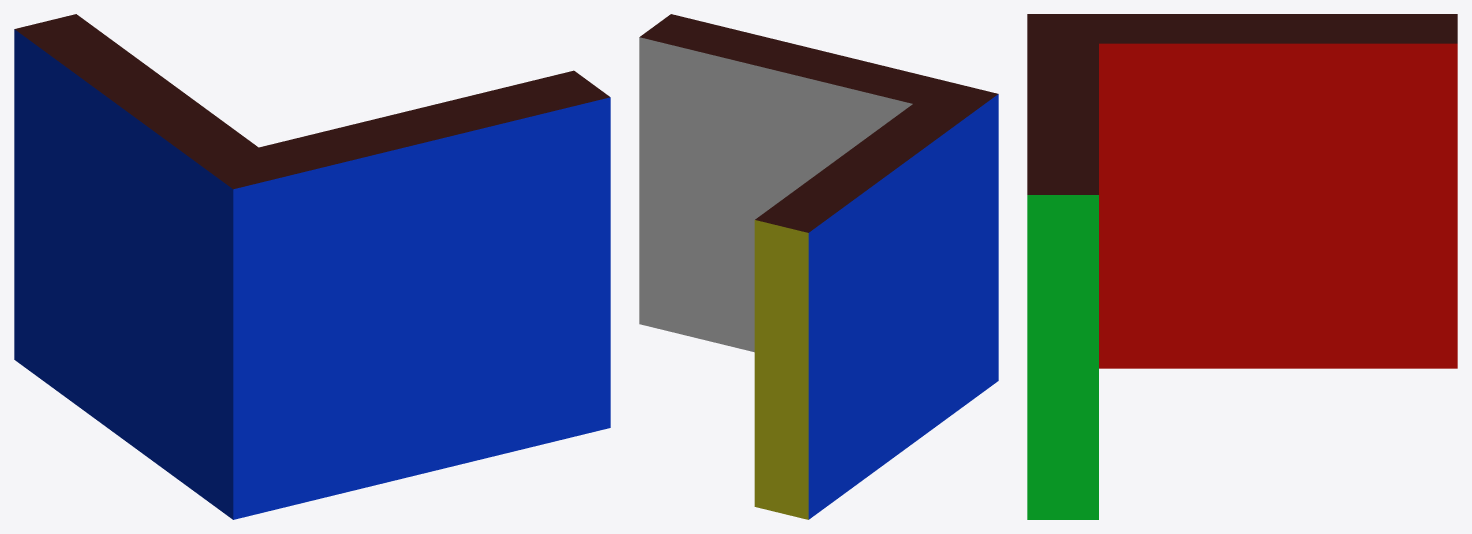
File: corner.fbx
3 renders of one model, left to right at view 1: azimuth 30°, elevation 25°; view 2: azimuth 150°, elevation 25°; view 3: azimuth 270°, elevation 25°, orthographic. The views are drawn at different scales.
Visible parts, largest first — view 1: Cube; view 2: Cube; view 3: Cube.
Part boxes in pixels (<box>): Cube: <box>14,14,610,519</box>; Cube: <box>639,14,998,519</box>; Cube: <box>1027,14,1457,519</box>.
Bounding box in the file's own units: 239 × 200 × 240.
